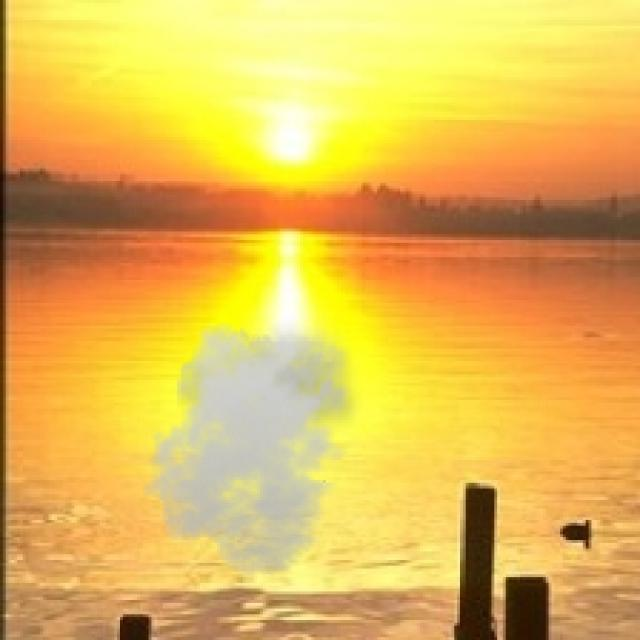smoke: (143, 314, 363, 577)
